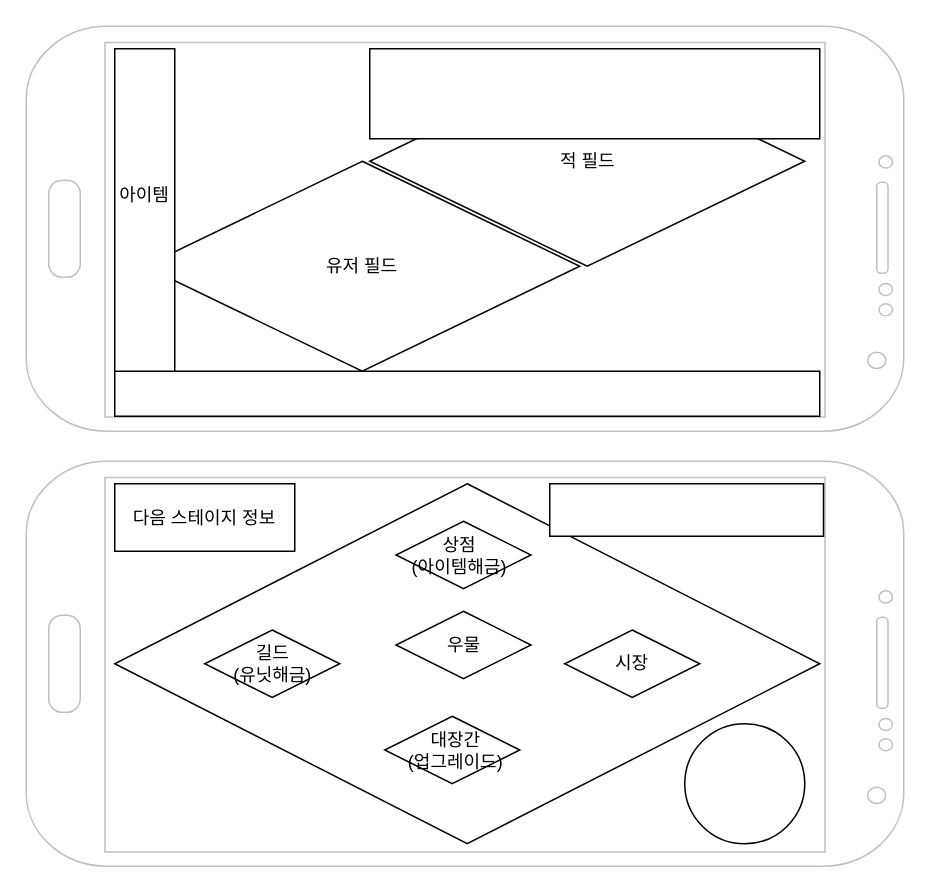
Some shapes in this 930 by 893 pixel diagram are drawn without their labels. The box of each missing label's shape, as (x1, y1, x2, y2) in pixels:
대기중인 유닛 (초상화로 표시): (113, 370, 820, 416)
스테이지 마다 추가 할 유닛 선택 (전투 중에는 숨김): (368, 47, 820, 139)
스테이지 시작: (683, 722, 805, 844)
자원: (548, 482, 824, 536)
